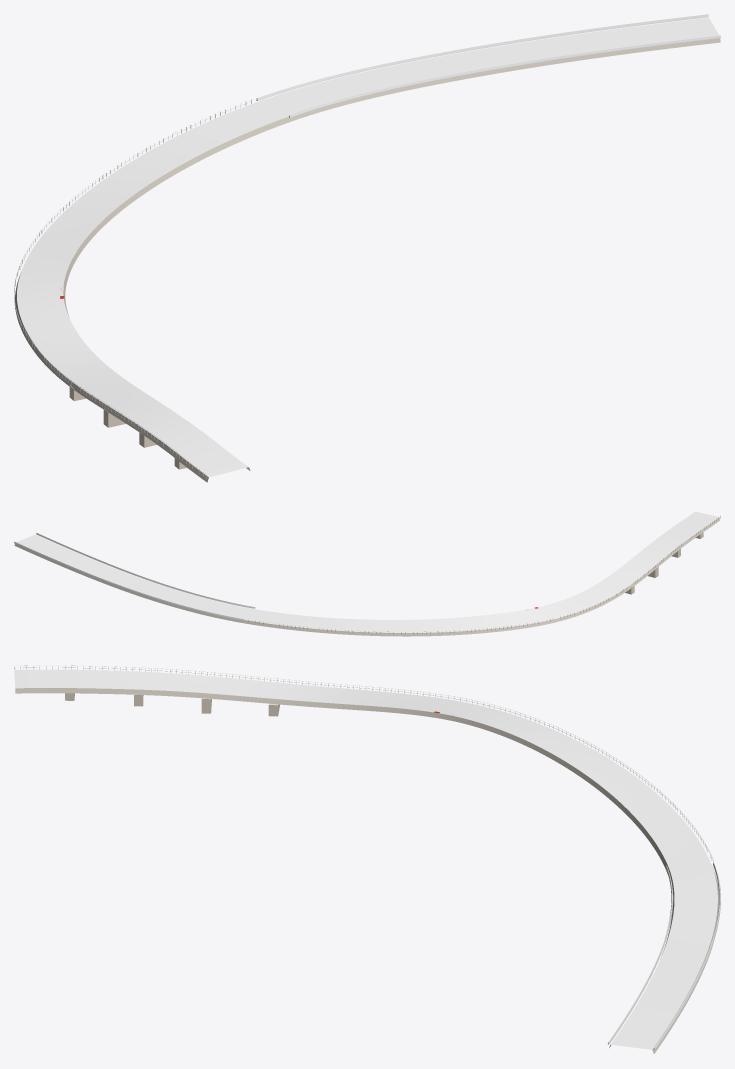
Rendered from SM_JeddahCorniche_Track_03.fbx.
3 renders of one model, top to bottom at view 1: azimuth 30°, elevation 25°; view 2: azimuth 150°, elevation 25°; view 3: azimuth 270°, elevation 25°, orthographic. The views are drawn at different scales.
Visible parts, largest first — view 1: SM_JeddahCorniche_Track_03; view 2: SM_JeddahCorniche_Track_03; view 3: SM_JeddahCorniche_Track_03.
Boxes of the visible parts, x1,y1,x2,y2 form: SM_JeddahCorniche_Track_03: (14, 14, 720, 482); SM_JeddahCorniche_Track_03: (14, 511, 720, 636); SM_JeddahCorniche_Track_03: (14, 665, 720, 1053).
Size of the model in its own units: 29283 by 1042 by 22786.
